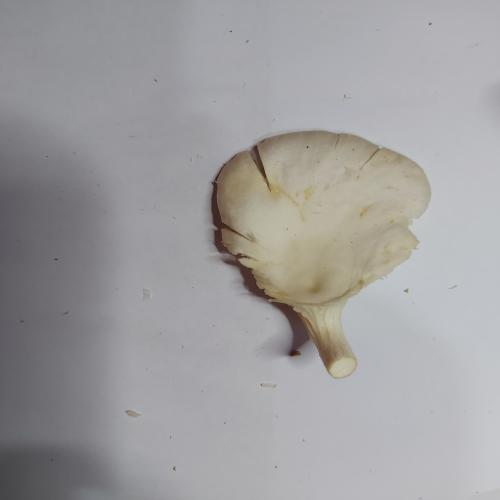Oyster Mushroom: (211, 129, 432, 379)
